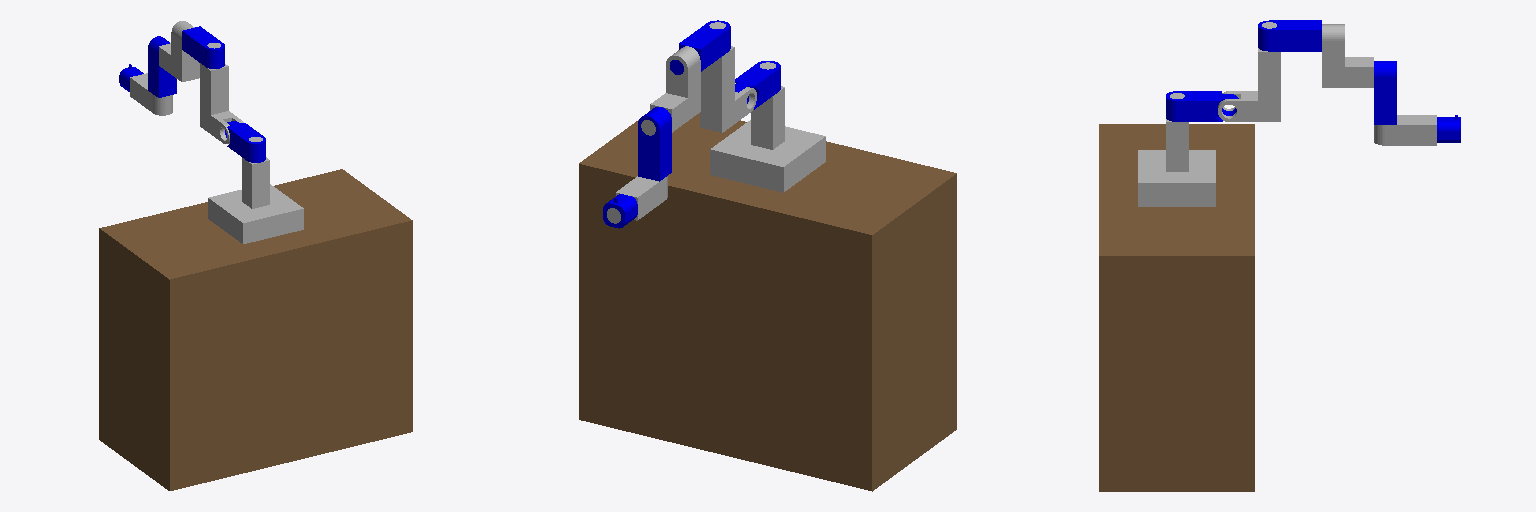
The robot description file, URDF, robot "robot":
<?xml version="1.0"?>

<robot name="robot" xmlns:xacro="http://www.ros.org/wiki/xacro">


  <!-- Color of materials -->
  <material name="yellow">
    <color rgba="1 1 0 1"/>
  </material>
  <material name="blue">
    <color rgba="0 0 1 1"/>
  </material>
  <material name="red">
    <color rgba="1 0 0 1"/>
  </material>
  <material name="grey">
    <color rgba="0.75 0.75 0.75 1"/>
  </material>
  <material name="mesa">
    <color rgba="0.53 0.41 0.28 1"/>
  </material>

   
<link name="right_leg">
  <visual>
    <geometry>
      <box size="0.6 0.3 0.5"/>
    </geometry>
    <origin rpy="0 0 0" xyz="0 0 0.25"/> 
    <material name= "mesa"/>
</visual>
</link>

<joint name="joint0" type="fixed">
  <parent link="right_leg"/>
  <child link="base_link"/>
</joint> 

 <link name="base_link">
    <visual>
     <geometry>
       <mesh filename="package://dishap/meshes1/Base2.stl" scale="0.001 0.001 0.001"/>   
     </geometry>
     <origin rpy="1.5708 0 1.5708" xyz="0 0 0.6775"/>  <!-- rpy= 0 0 0.1775" -->
     <material name="grey" /> 
    </visual>

    <collision>
     <geometry>
       <mesh filename="package://dishap/meshes1/Base2.stl" scale="0.001 0.001 0.001"/>   
     </geometry>
     <origin rpy="1.5708 0 1.5708" xyz="0 0 0.6775"/> 
    </collision>

    <inertial> 
      <mass value="4" />
      <inertia ixx="1.0" ixy="0.0" ixz="0.0" 
               iyy="1.0" iyz="0.0" izz="1.0" /> 
    </inertial>

  </link>
  <gazebo reference= "base_link">
    <material>Gazebo/Gray</material>
  </gazebo>


  <joint name="joint1" type="revolute">
    <parent link="base_link"/>
    <child link="link1"/>
    <origin xyz="0 0 0.6775"/>
    <axis xyz="0 0 1" />
    <limit effort="300" velocity="0.1" lower="-3.1" upper="3.1"/>
  </joint>


  <link name="link1">
    <visual>
    <geometry>
       <mesh filename="package://dishap/meshes1/Link1.stl" scale="0.001 0.001 0.001"/>   
    </geometry>
    <origin rpy="1.5708  0 1.5708" xyz="0 0 -0.0225"/>    <!-- rpy= "1.5708 0 0"-->
    <material name="blue" />
    </visual>

    <collision>
     <geometry>
       <mesh filename="package://dishap/meshes1/Link1.stl" scale="0.001 0.001 0.001"/>   
     </geometry>
     <origin rpy="1.5708 0 1.5708" xyz="0 0 -0.0225"/> 
    </collision>

    <inertial> 
      <mass value="0.1" />
      <inertia ixx="1.0" ixy="0.0" ixz="0.0" 
               iyy="1.0" iyz="0.0" izz="1.0" /> 
    </inertial>
  </link>
  <gazebo reference= "link1">
    <material>Gazebo/White</material>
  </gazebo>


  <joint name="joint2" type="revolute">
    <parent link="link1" />
    <child link="link2_3"  />
    <origin xyz="0 0.1  0"/>
    <axis xyz="-1 0 0" />
    <limit effort="300" velocity="0.1" lower="-3.1" upper="3.1"/>
  </joint>


  <link name="link2_3">
    <visual>
    <geometry>
       <mesh filename="package://dishap/meshes1/Link2_3.stl" scale="0.001 0.001 0.001"/>   
    </geometry>
    <origin rpy="1.5708 0  0" xyz="-0.0225 0 0"/>  <!-- rpy= "1.5708 0  -1.5708" -->
    <material name="grey" /> 
    </visual>

    <collision>
     <geometry>
       <mesh filename="package://dishap/meshes1/Link2_3.stl" scale="0.001 0.001 0.001"/>   
     </geometry>
     <origin rpy="1.5708 0 0" xyz="-0.0225 0 0"/> 
    </collision>

    <inertial> 
      <mass value="0.1" />
      <inertia ixx="1.0" ixy="0.0" ixz="0.0" 
               iyy="1.0" iyz="0.0" izz="1.0" />
    </inertial>
  </link>
  <gazebo reference= "link2_3">
    <material>Gazebo/White</material>
  </gazebo>


  <joint name="joint3" type="revolute">
    <parent link="link2_3" />
    <child link="link4"  />
    <origin xyz="0 0.0775 0.15"/>  <!-- 0.1275  -->
    <axis xyz="0 0 1" />
    <limit effort="300" velocity="0.1" lower="-3.1" upper="3.1"/>
  </joint>


  <link name="link4">
    <visual>
    <geometry>
       <mesh filename="package://dishap/meshes1/Link4.stl" scale="0.001 0.001 0.001"/>   
    </geometry>
    <origin rpy="1.5708 0 0" xyz="0 0 -0.0225"/>    <!-- rpy= "1.5708 0  -1.5708" -->
    <material name="blue" />
    </visual>

    <collision>
     <geometry>
       <mesh filename="package://dishap/meshes1/Link4.stl" scale="0.001 0.001 0.001"/>   
     </geometry>
     <origin rpy="1.5708 0 0" xyz="0 0 -0.0225"/> 
    </collision>

    <inertial> 
      <mass value="0.1" />
      <inertia ixx="1.0" ixy="0.0" ixz="0.0" 
               iyy="1.0" iyz="0.0" izz="1.0" />
    </inertial>
  </link>
  <gazebo reference= "link4">
    <material>Gazebo/White</material>
  </gazebo>


  <joint name="joint4" type="revolute">
    <parent link="link4" />
    <child link="link5_6"  />
    <origin xyz="0 0.1225  0"/> <!-- 0.1 -->
    <axis xyz="0 1 0" />
    <limit effort="300" velocity="0.1" lower="-3.1" upper="3.1"/>
  </joint>


  <link name="link5_6">
    <visual>
    <geometry>
       <mesh filename="package://dishap/meshes1/Link5_6.stl" scale="0.001 0.001 0.001"/>   
    </geometry>
    <origin rpy="1.5708 0 0" xyz="0 0.0225 0"/>  <!-- rpy= "1.5708 0  -1.5708" -->
    <material name="grey" />
    </visual>

    <collision>
     <geometry>
       <mesh filename="package://dishap/meshes1/Link5_6.stl" scale="0.001 0.001 0.001"/>  
     </geometry>
     <origin rpy="1.5708 0 0" xyz="0 0.0225 0"/> 
    </collision>

    <inertial> 
      <mass value="0.1" />
      <inertia ixx="1.0" ixy="0.0" ixz="0.0" 
               iyy="1.0" iyz="0.0" izz="1.0" />
    </inertial>
  </link>
  <gazebo reference= "link5_6">
    <material>Gazebo/White</material>
  </gazebo>


  <joint name="joint5" type="revolute">
    <parent link="link5_6" />
    <child link="link7"  />
    <origin xyz="0 0.1 -0.0775"/> <!-- y 0.1225 -->
    <axis xyz="0 1 0" />
    <limit effort="300" velocity="0.1" lower="-3.1" upper="3.1"/>
  </joint>

  <link name="link7">
    <visual>
    <geometry>
       <mesh filename="package://dishap/meshes1/Link7.stl" scale="0.001 0.001 0.001"/>   
    </geometry>
    <origin rpy="1.5708 0 3.1416" xyz="0 -0.0225 0"/>  <!-- rpy= "1.5708 0  1.5708" -->
    <material name="blue" />
    </visual>

    <collision>
     <geometry>
       <mesh filename="package://dishap/meshes1/Link7.stl" scale="0.001 0.001 0.001"/>   
     </geometry>
     <origin rpy="1.5708 0 3.1416" xyz="0 -0.0225 0"/> 
    </collision>

    <inertial> 
      <mass value="0.1" />
      <inertia ixx="1.0" ixy="0.0" ixz="0.0" 
               iyy="1.0" iyz="0.0" izz="1.0" />
    </inertial>  
  </link>
  <gazebo reference= "link7">
    <material>Gazebo/White</material>
  </gazebo>


  <joint name="joint6" type="revolute">
    <parent link="link7" />
    <child link="link8"  />
    <origin xyz="0 0  -0.1225"/>   <!-- -0.1 -->
    <axis xyz="0 0 -1" />
    <limit effort="300" velocity="0.1" lower="-3.1" upper="3.1"/>
  </joint>


  <link name="link8">
    <visual>
    <geometry>
       <mesh filename="package://dishap/meshes1/Link8.stl" scale="0.001 0.001 0.001"/>   
    </geometry>
    <origin rpy="1.5708 0 1.5708" xyz="0 0 -0.0225"/>  <!-- rpy= "1.5708 0  0" -->
    <material name="grey" />
    </visual>

    <collision>    
     <geometry>
       <mesh filename="package://dishap/meshes1/Link8.stl" scale="0.001 0.001 0.001"/>   
     </geometry>
     <origin rpy="1.5708 0 1.5708" xyz="0 0 -0.0225"/>  
    </collision>

    <inertial> 
      <mass value="0.1" />
      <inertia ixx="1.0" ixy="0.0" ixz="0.0" 
               iyy="1.0" iyz="0.0" izz="1.0" />
    </inertial> 
  </link>
  <gazebo reference= "link8">
    <material>Gazebo/White</material>
  </gazebo>

  <joint name="joint7" type="revolute">
    <parent link="link8" />
    <child link="link9"  />
    <origin xyz="0 0.1225 0"/>  <!-- 0.1 -->
    <axis xyz="0 1 0" />
    <limit effort="300" velocity="0.1" lower="-3.1" upper="3.1"/>
  </joint>

  <link name="link9">
    <visual>
    <geometry>
       <mesh filename="package://dishap/meshes1/Link9.stl" scale="0.001 0.001 0.001"/>   
    </geometry>
    <origin rpy="-1.5708 3.1416 0" xyz="0 0 0"/>  <!-- rpy= "1.5708 0  0" -->
    <material name="blue" />
    </visual>

    <collision>    
     <geometry>
       <mesh filename="package://dishap/meshes1/Link8.stl" scale="0.001 0.001 0.001"/>   
     </geometry>
     <origin rpy="-1.5708 3.1416 0" xyz="0 0 -0.0225"/>  
    </collision>

    <inertial> 
      <mass value="0.1" />
      <inertia ixx="1.0" ixy="0.0" ixz="0.0" 
               iyy="1.0" iyz="0.0" izz="1.0" />
    </inertial> 

  </link>
  <gazebo reference= "link9">
    <material>Gazebo/White</material>
  </gazebo>


<gazebo>
  <plugin name="gazebo_ros_control" filename="libgazebo_ros_control.so">
    <robotNamespace>/robot</robotNamespace>
    <legacyModeNS>true</legacyModeNS>
  </plugin>
</gazebo>

</robot>

--- Render facts (derived) ---
The picture shows the robot from 3 angles, left to right: view 1: azimuth 30°, elevation 25°; view 2: azimuth 150°, elevation 25°; view 3: azimuth 270°, elevation 25°; orthographic projection.
Robot: robot — 9 links, 8 joints (7 revolute, 1 fixed); root link right_leg; default pose: all joints at 0.
Links seen in each view (by area): view 1: right_leg, base_link, link2_3, link5_6, link4, link1, link7, link8; view 2: right_leg, base_link, link2_3, link5_6, link7, link4, link8, link1, link9; view 3: right_leg, base_link, link2_3, link5_6, link4, link1, link8, link7, link9.
Link boxes in pixels (x1,y1,x2,y2): right_leg: (99,169,412,490); base_link: (208,137,303,243); link2_3: (200,43,243,143); link5_6: (159,21,199,81); link4: (182,26,224,68); link1: (225,121,265,162); link7: (148,36,176,97); link8: (130,73,172,115); right_leg: (579,113,956,491); base_link: (710,62,825,192); link2_3: (700,22,756,132); link5_6: (641,46,700,135); link7: (638,107,671,181); link4: (670,20,730,74); link8: (607,176,667,223); link1: (735,61,780,109); link9: (603,194,637,228); right_leg: (1099,124,1254,491); base_link: (1138,93,1215,206); link2_3: (1218,22,1280,121); link5_6: (1322,24,1373,87); link4: (1258,20,1321,51); link1: (1166,91,1238,121); link8: (1374,115,1436,145); link7: (1374,61,1396,124); link9: (1437,115,1460,142).
Bounding box of the posed robot: 0.6 × 0.695 × 0.85 m (x, y, z).
Meshes: 8 distinct files referenced, 8 mesh visuals loaded (8 binary STL).